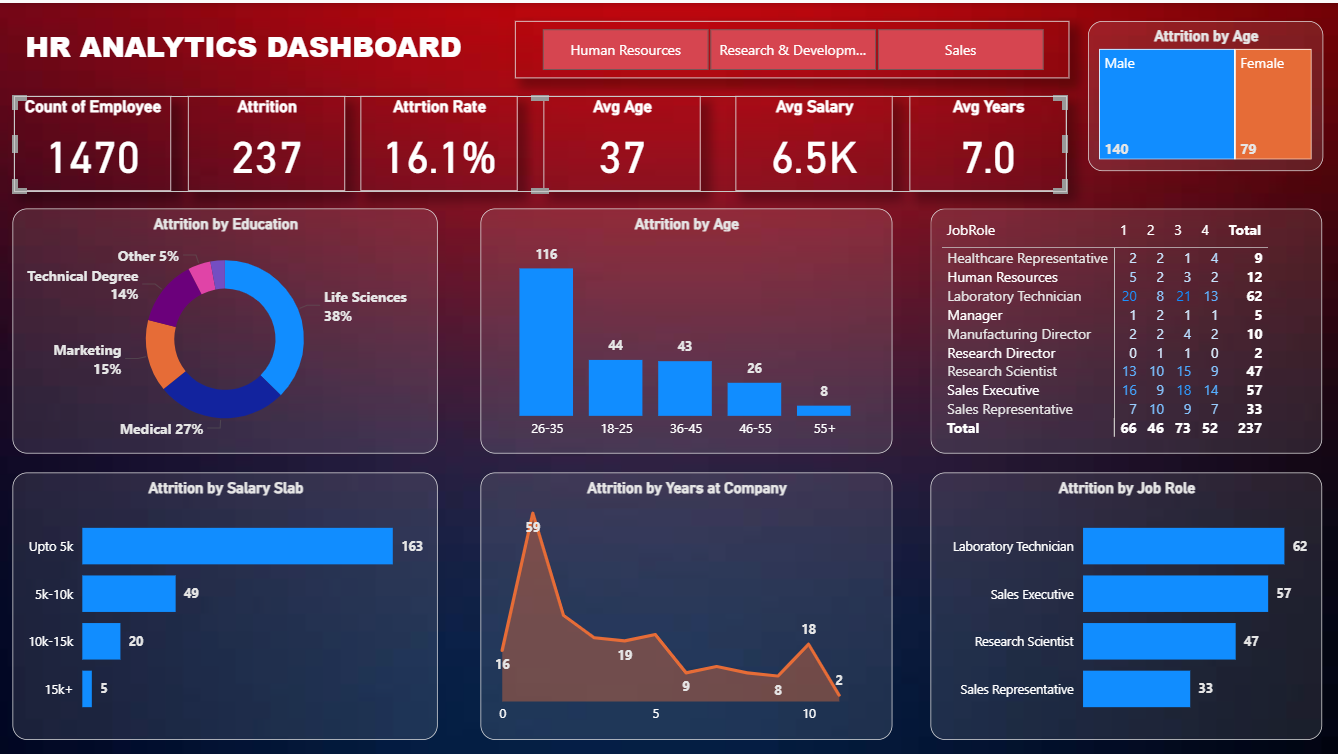

The dashboard page shown, as its layout file describes it:
{"tool":"powerbi","page":{"name":"Page 1","canvas":[1280,720],"ordinal":0},"visuals":[{"type":"card","title":"Count of Employee","fields":{"Values":["CountNonNull(HR_Analytics.EmpID)"]},"box":[13.2,103.9,150,75.6],"z":0,"group":"g1"},{"type":"donutChart","title":"Attrition by Education","fields":{"Category":["HR_Analytics.EducationField"],"Y":["Sum(HR_Analytics.AttritionCount)"]},"box":[13.2,196.5,406.3,234.3],"z":0},{"type":"card","title":"Attrition","fields":{"Values":["Sum(HR_Analytics.AttritionCount)"]},"box":[179.5,103.9,150,75.6],"z":1000,"group":"g1"},{"type":"columnChart","title":"Attrition by Age","fields":{"Category":["HR_Analytics.AgeGroup"],"Y":["Sum(HR_Analytics.AttritionCount)"]},"box":[459.2,196.5,393.1,234.3],"z":1000},{"type":"card","title":"Attrtion Rate","fields":{"Values":["HR_Analytics.AttritionRate"]},"box":[343.9,103.9,150,75.6],"z":2000,"group":"g1"},{"type":"pivotTable","fields":{"Rows":["HR_Analytics.JobRole"],"Columns":["HR_Analytics.JobSatisfaction"],"Values":["Sum(HR_Analytics.AttritionCount)"]},"box":[890.1,196.5,374.2,234.3],"z":2000},{"type":"card","title":"Avg Age","fields":{"Values":["Avg(HR_Analytics.Age)"]},"box":[519.7,103.9,150,75.6],"z":3000,"group":"g1"},{"type":"barChart","title":"Attrition by Salary Slab","fields":{"Category":["HR_Analytics.SalarySlab"],"Y":["Sum(HR_Analytics.AttritionCount)"]},"box":[13.2,447.9,406.3,255.1],"z":3000},{"type":"card","title":"Avg Salary","fields":{"Values":["Avg(HR_Analytics.MonthlyIncome)"]},"box":[703,103.9,150,75.6],"z":4000,"group":"g1"},{"type":"barChart","title":"Attrition by Job Role","fields":{"Category":["HR_Analytics.JobRole"],"Y":["Sum(HR_Analytics.AttritionCount)"]},"box":[890.1,447.9,374.2,255.1],"z":4000},{"type":"card","title":"Avg Years","fields":{"Values":["Avg(HR_Analytics.YearsAtCompany)"]},"box":[869.3,103.9,150,75.6],"z":5000,"group":"g1"},{"type":"areaChart","title":"Attrition by Years at Company","fields":{"Category":["HR_Analytics.YearsAtCompany"],"Y":["Sum(HR_Analytics.AttritionCount)"]},"box":[459.2,447.9,393.1,255.1],"z":5000},{"type":"treemap","title":"Attrition by Age","fields":{"Group":["HR_Analytics.Gender"],"Values":["Sum(HR_Analytics.AttritionCount)"]},"box":[1039.4,17,224.9,143.6],"z":6000},{"type":"slicer","fields":{"Values":["HR_Analytics.Department"]},"box":[493.2,17,529.1,54.8],"z":7000},{"type":"textbox","box":[0,17,466.8,54.8],"z":8000},{"type":"group","id":"g1","title":"Group 1","box":[13.2,103.9,1007.3,75.6],"z":9000}]}

Visuals, with their boxes in screenshot pixels (x1, y1, x2, y2), scaled from the page's 1280x720 canvas onto the 1338x754 screenshot:
"Count of Employee" card: l=14, t=109, r=171, b=188
"Attrition by Education" donutChart: l=14, t=206, r=439, b=451
"Attrition" card: l=188, t=109, r=344, b=188
"Attrition by Age" columnChart: l=480, t=206, r=891, b=451
"Attrtion Rate" card: l=359, t=109, r=516, b=188
pivotTable - HR_Analytics.JobRole x HR_Analytics.JobSatisfaction: l=930, t=206, r=1322, b=451
"Avg Age" card: l=543, t=109, r=700, b=188
"Attrition by Salary Slab" barChart: l=14, t=469, r=439, b=736
"Avg Salary" card: l=735, t=109, r=892, b=188
"Attrition by Job Role" barChart: l=930, t=469, r=1322, b=736
"Avg Years" card: l=909, t=109, r=1065, b=188
"Attrition by Years at Company" areaChart: l=480, t=469, r=891, b=736
"Attrition by Age" treemap: l=1086, t=18, r=1322, b=168
slicer - HR_Analytics.Department: l=516, t=18, r=1069, b=75
textbox: l=0, t=18, r=488, b=75
"Group 1" group: l=14, t=109, r=1067, b=188
